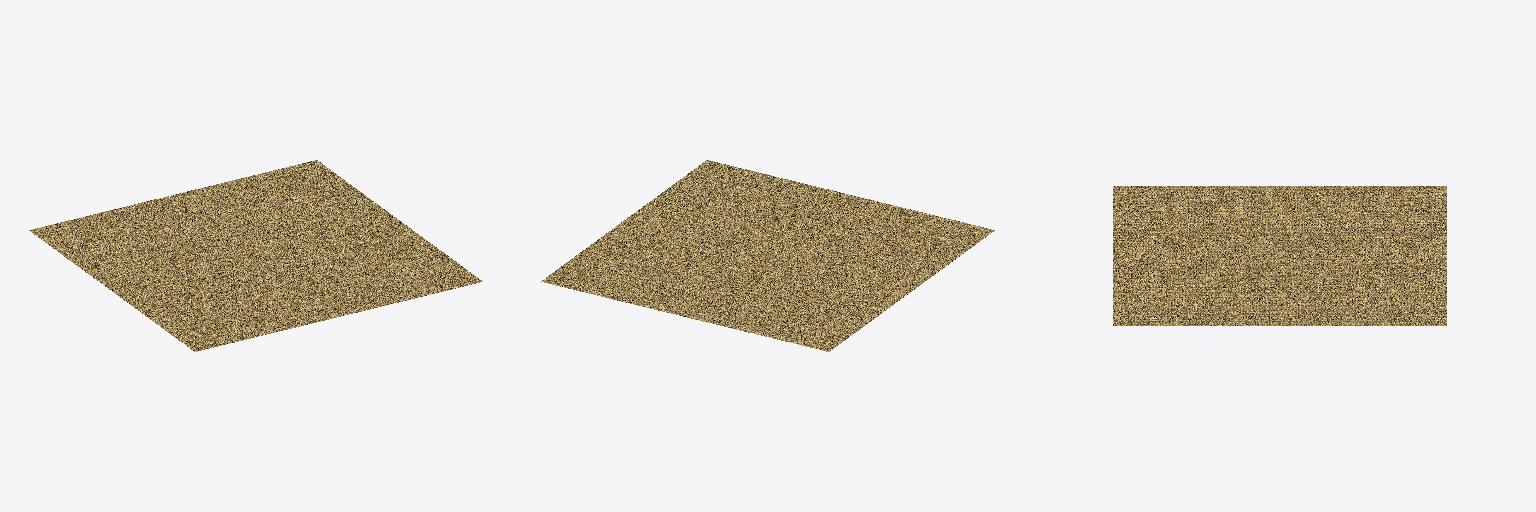
The picture shows the model from 3 angles: view 1: azimuth 30°, elevation 25°; view 2: azimuth 150°, elevation 25°; view 3: azimuth 270°, elevation 25°; orthographic projection.
Visible parts, largest first — view 1: Grid; view 2: Grid; view 3: Grid.
Part boxes in pixels (x1,y1,x2,y2): Grid: (29,160,482,351); Grid: (541,160,994,351); Grid: (1113,186,1446,325).
Size of the model in its own units: 51480 by 0 by 51480.
Materials: 1 (1 with a texture image).